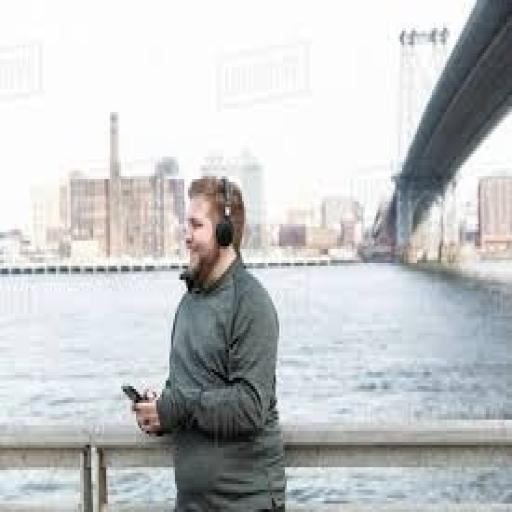listening_to_music: (126, 171, 288, 509)
